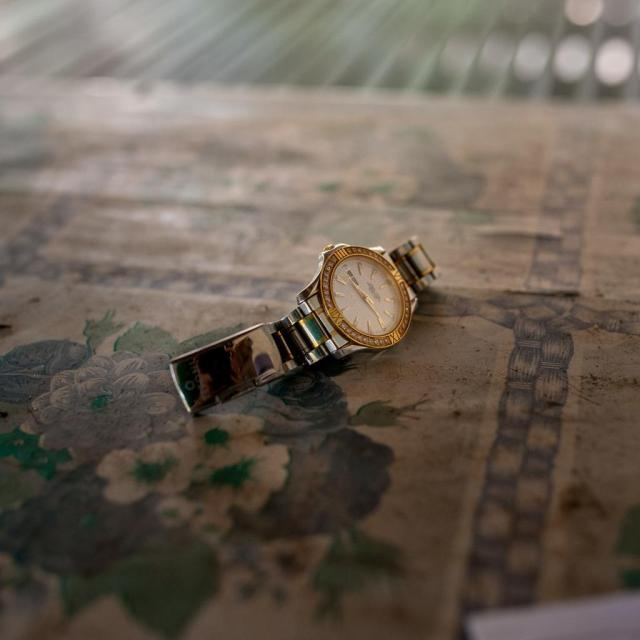Wrist watch: (172, 237, 458, 414)
